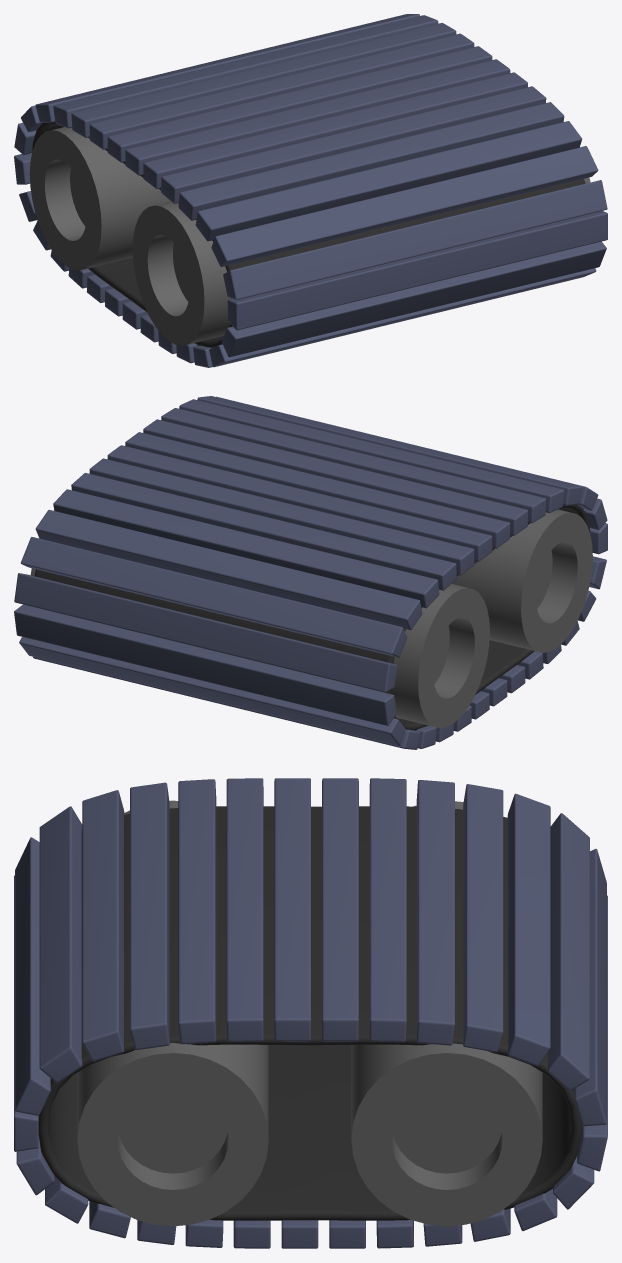
The model's file is Conveyer Belt Strait.fbx.
The picture shows the model from 3 angles, top to bottom: view 1: azimuth 30°, elevation 25°; view 2: azimuth 150°, elevation 25°; view 3: azimuth 270°, elevation 25°; orthographic projection. The views are drawn at different scales.
Parts seen in each view (by area): view 1: Threads, Barrels, Threadline; view 2: Threads, Barrels, Threadline; view 3: Threads, Barrels, Threadline.
Part boxes in pixels (x1,y1,x2,y2): Threads: [14, 14, 607, 367]; Barrels: [29, 127, 590, 345]; Threadline: [32, 122, 585, 347]; Threads: [14, 396, 607, 749]; Barrels: [30, 509, 592, 728]; Threadline: [34, 504, 590, 730]; Threads: [14, 778, 607, 1248]; Barrels: [77, 800, 542, 1226]; Threadline: [38, 806, 582, 1220].
Size of the model in its own units: 209 by 88.81 by 208.
